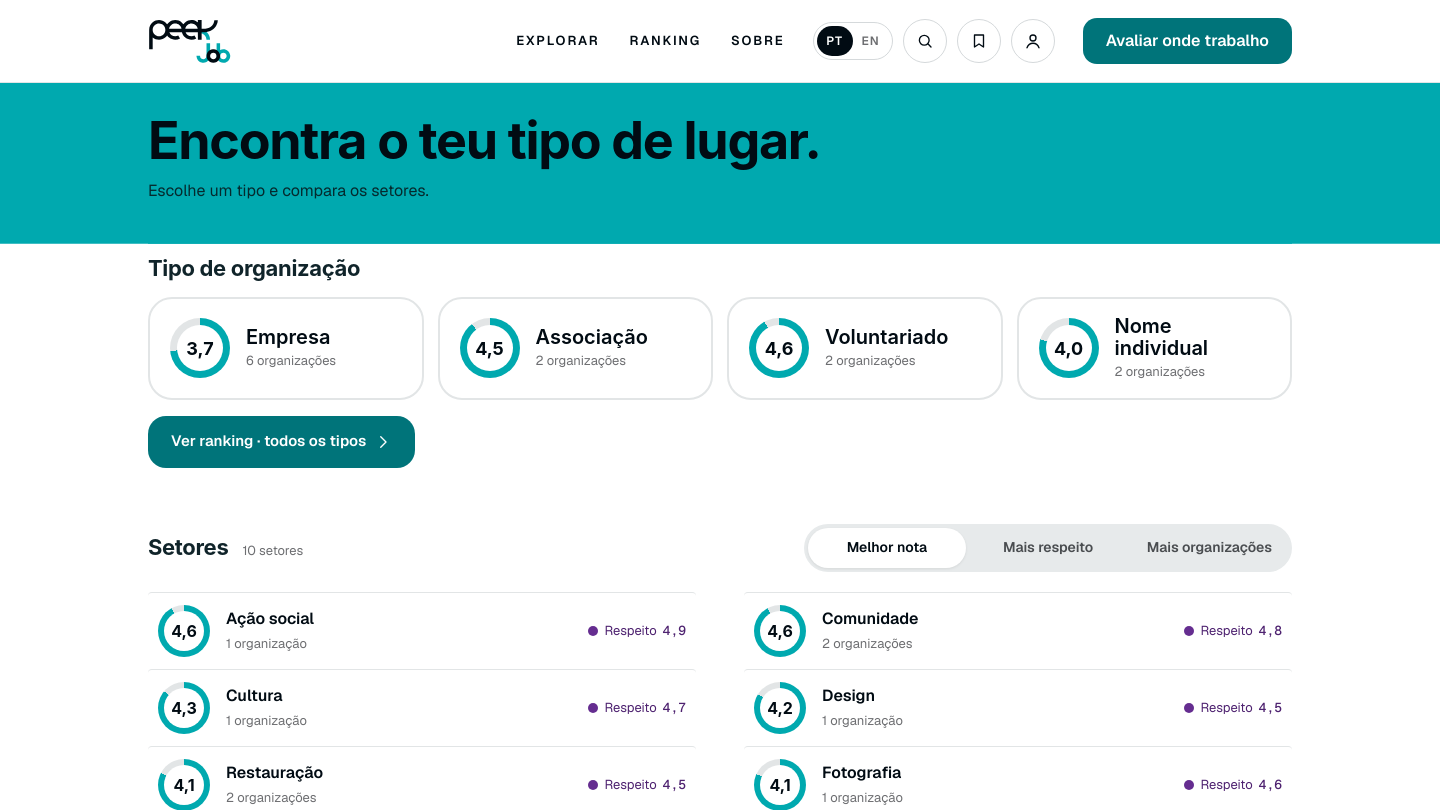
Scenario: Setores (desktop) › escolher um tipo filtra os setores e as ligações; voltar a todos
This screenshot has width=1440, height=810.
Click the button "4,6 Voluntariado 2 organizações": click(865, 348) [727,297,1002,400]
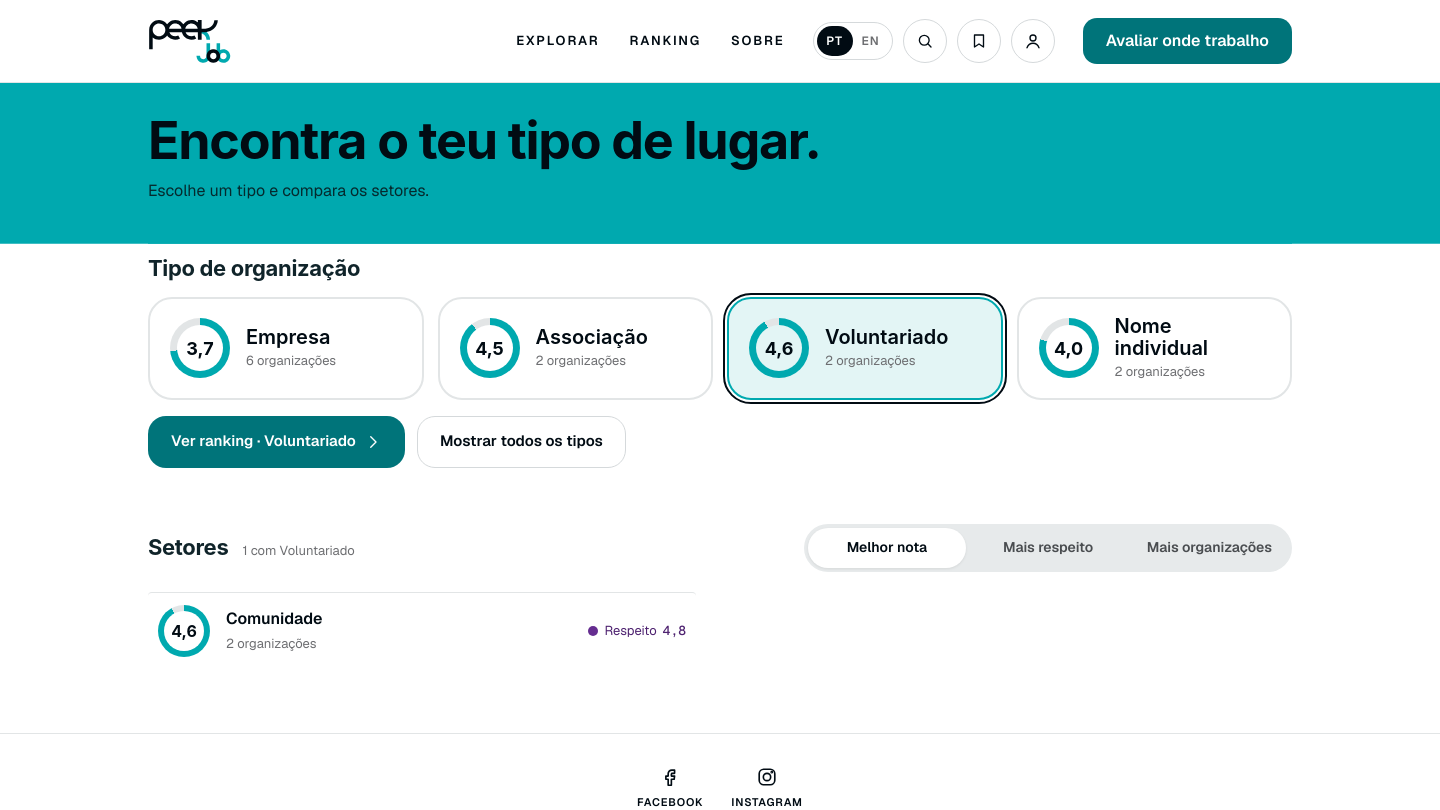
Now the text "1 com Voluntariado" is shown, box [242,541,355,560]
Click the button "Mostrar todos os tipos": click(521, 442) [417,416,626,468]
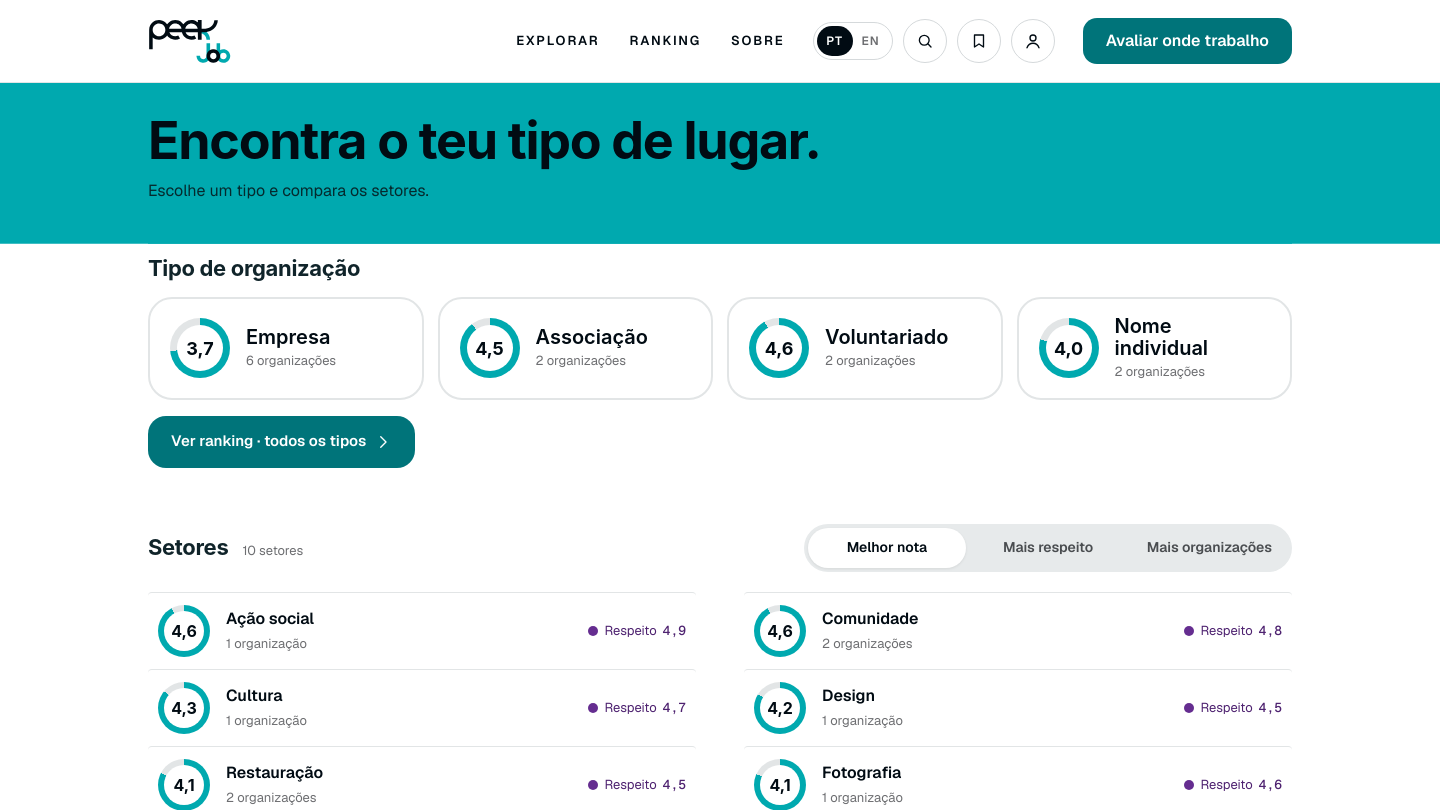
Now the button "4,6 Voluntariado 2 organizações" is not pressed, box [727,297,1002,400]
# carregar outra vez no tipo escolhido também tira o filtro
Click the button "3,7 Empresa 6 organizações": click(286, 348) [148,297,424,400]
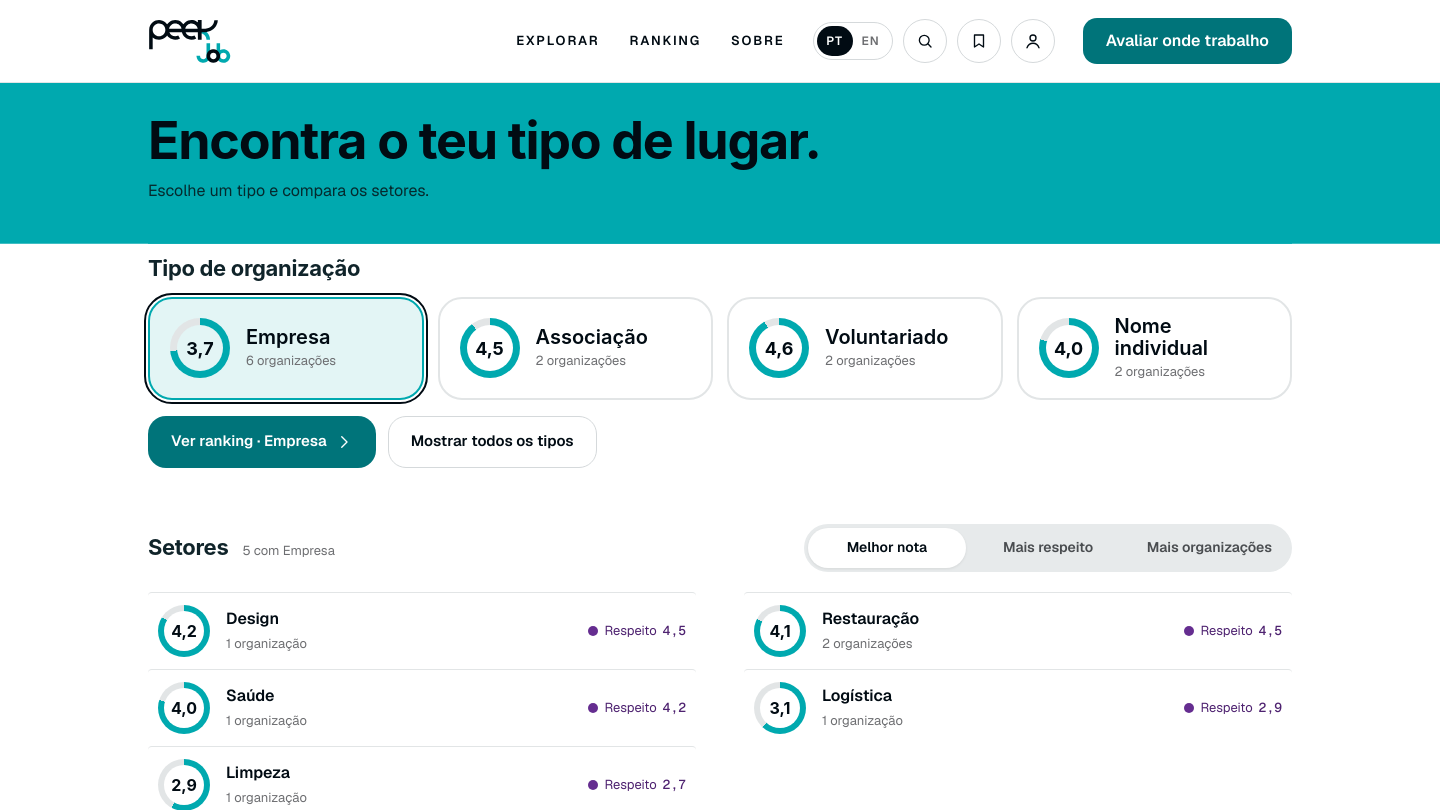
Click the button "3,7 Empresa 6 organizações": click(286, 348) [148,297,424,400]
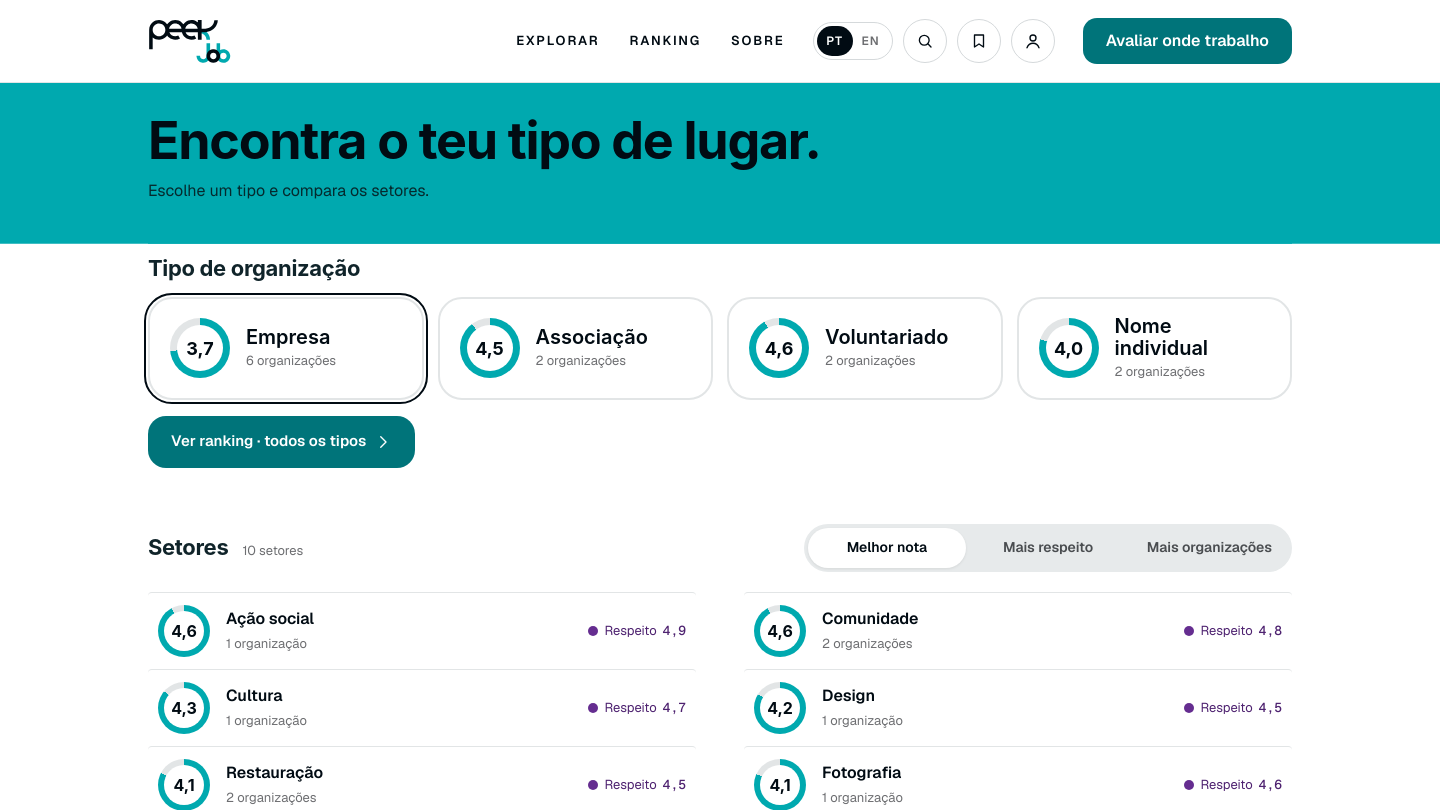
Now the text "10 setores" is shown, box [242,541,303,560]
